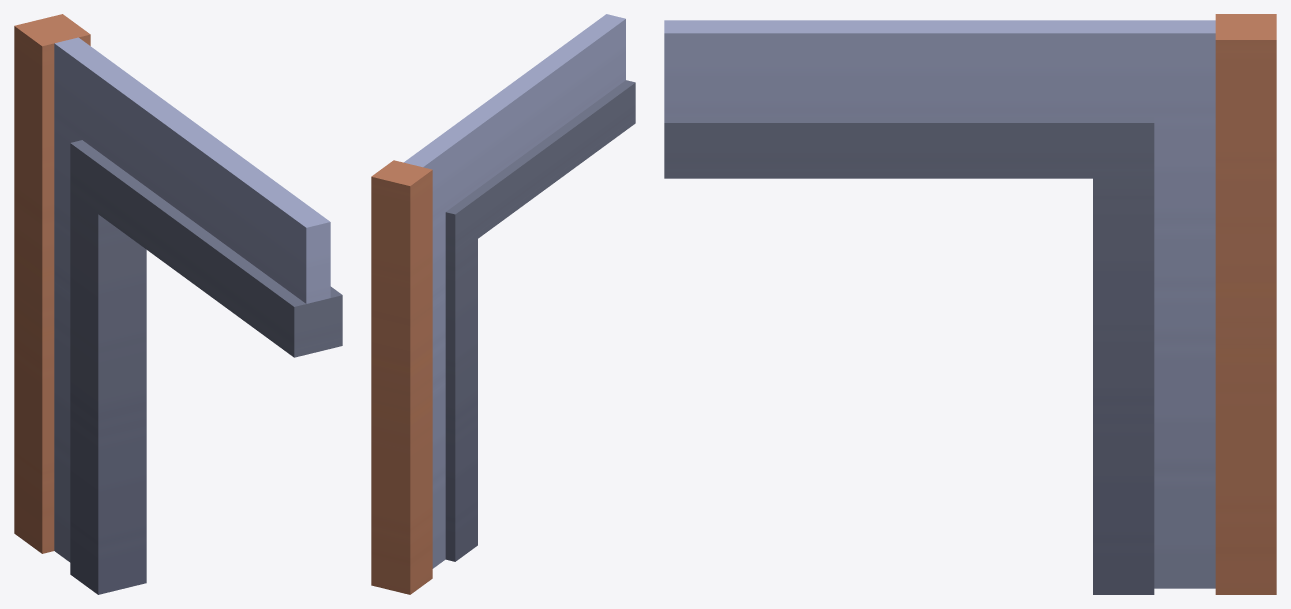
Rendered from wall-doorway-square-wide.fbx.
The picture shows the model from 3 angles, left to right: view 1: azimuth 30°, elevation 25°; view 2: azimuth 150°, elevation 25°; view 3: azimuth 270°, elevation 25°; orthographic projection. The views are drawn at different scales.
Visible parts, largest first — view 1: wall-doorway-square-wide; view 2: wall-doorway-square-wide; view 3: wall-doorway-square-wide.
Part boxes in pixels (x1=…): wall-doorway-square-wide: x1=14, y1=14, x2=342, y2=594; wall-doorway-square-wide: x1=371, y1=14, x2=635, y2=594; wall-doorway-square-wide: x1=664, y1=14, x2=1276, y2=594.
Bounding box in the file's own units: 10 × 100 × 100.
1 material, 1 textured.
